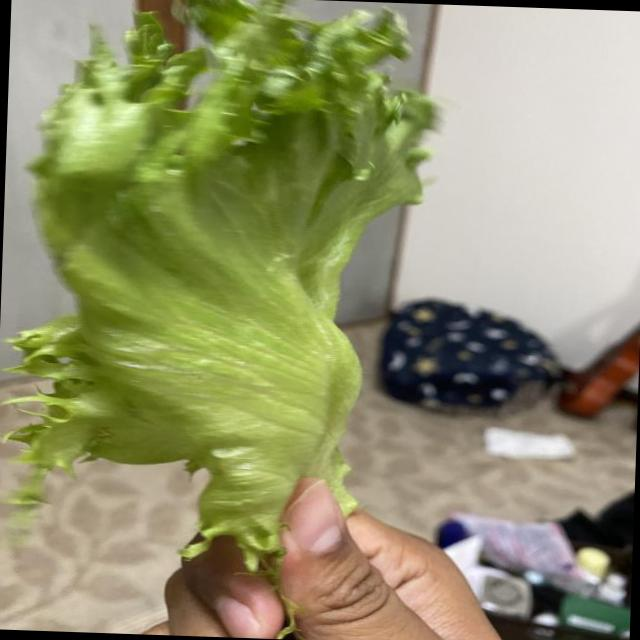Lettuce-Ready-to-Harvest: (11, 0, 435, 577)
